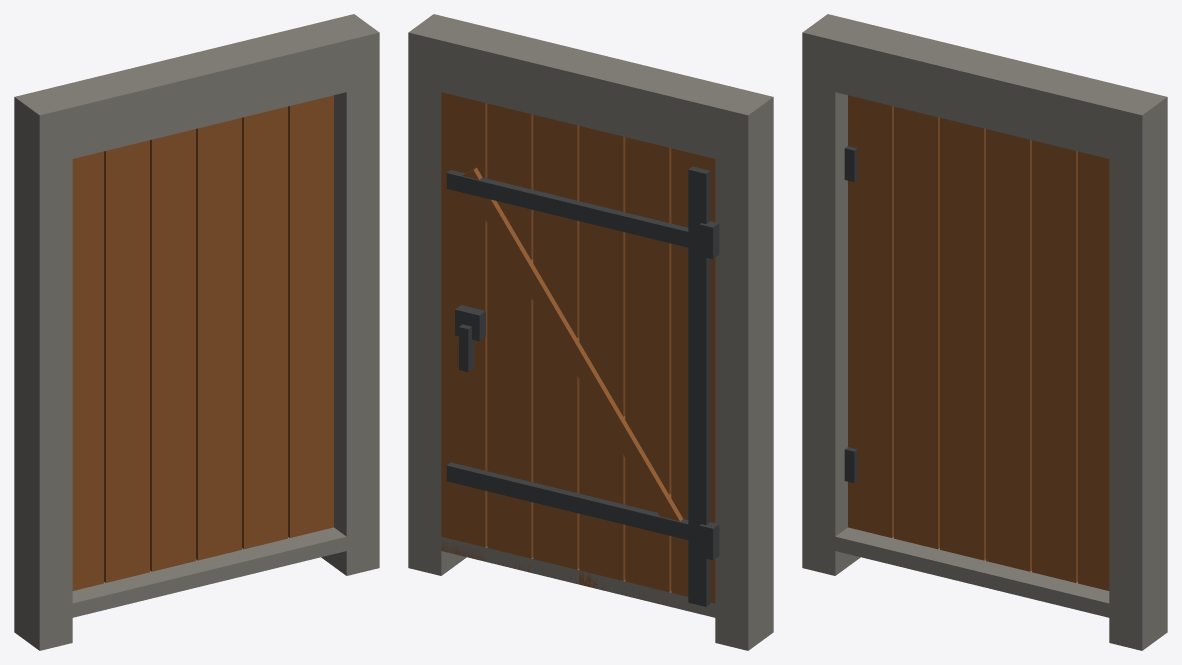
File: MedievalDoor_Animated.glb
3 views of the same model, side by side, from view 1: azimuth 30°, elevation 25°; view 2: azimuth 150°, elevation 25°; view 3: azimuth 330°, elevation 25° (orthographic).
Parts seen in each view (by area): view 1: Frame_Left, Frame_Top, Frame_Right, Door_Plank_02, Door_Plank_03, Door_Plank_04, Door_Plank_05, Door_Plank_06, Door_Plank_01, Threshold; view 2: Frame_Left, Frame_Top, Door_Plank_06, Door_Plank_03, Frame_Right, Door_Plank_02, Door_Plank_05, Door_Plank_04, Door_Plank_01, Iron_HingeStrip, Wood_DiagonalBrace, Threshold (+6 smaller); view 3: Frame_Right, Frame_Top, Frame_Left, Door_Plank_02, Door_Plank_03, Door_Plank_04, Door_Plank_05, Door_Plank_01, Door_Plank_06, Threshold.
Boxes of the visible parts, <box> form: Frame_Left: <box>14,124,72,650</box>; Frame_Top: <box>14,14,379,166</box>; Frame_Right: <box>321,59,379,575</box>; Door_Plank_02: <box>104,140,149,582</box>; Door_Plank_03: <box>150,129,195,571</box>; Door_Plank_04: <box>196,118,241,560</box>; Door_Plank_05: <box>242,106,287,549</box>; Door_Plank_06: <box>288,95,333,537</box>; Door_Plank_01: <box>72,151,103,590</box>; Threshold: <box>14,527,379,625</box>; Frame_Left: <box>715,124,773,650</box>; Frame_Top: <box>408,14,773,165</box>; Door_Plank_06: <box>441,92,487,560</box>; Door_Plank_03: <box>579,126,625,590</box>; Frame_Right: <box>408,59,466,575</box>; Door_Plank_02: <box>625,137,671,604</box>; Door_Plank_05: <box>487,103,533,572</box>; Door_Plank_04: <box>533,114,579,583</box>; Door_Plank_01: <box>671,148,715,617</box>; Iron_HingeStrip: <box>688,166,710,606</box>; Wood_DiagonalBrace: <box>462,167,685,544</box>; Threshold: <box>408,528,773,625</box>; Frame_Right: <box>1109,124,1167,650</box>; Frame_Top: <box>802,14,1167,166</box>; Frame_Left: <box>802,59,860,575</box>; Door_Plank_02: <box>894,106,939,549</box>; Door_Plank_03: <box>940,118,985,560</box>; Door_Plank_04: <box>986,129,1031,571</box>; Door_Plank_05: <box>1032,140,1077,582</box>; Door_Plank_01: <box>848,95,893,537</box>; Door_Plank_06: <box>1078,151,1109,590</box>; Threshold: <box>802,527,1167,625</box>.
Size of the model in its own units: 2.48 by 3.74 by 0.453.
